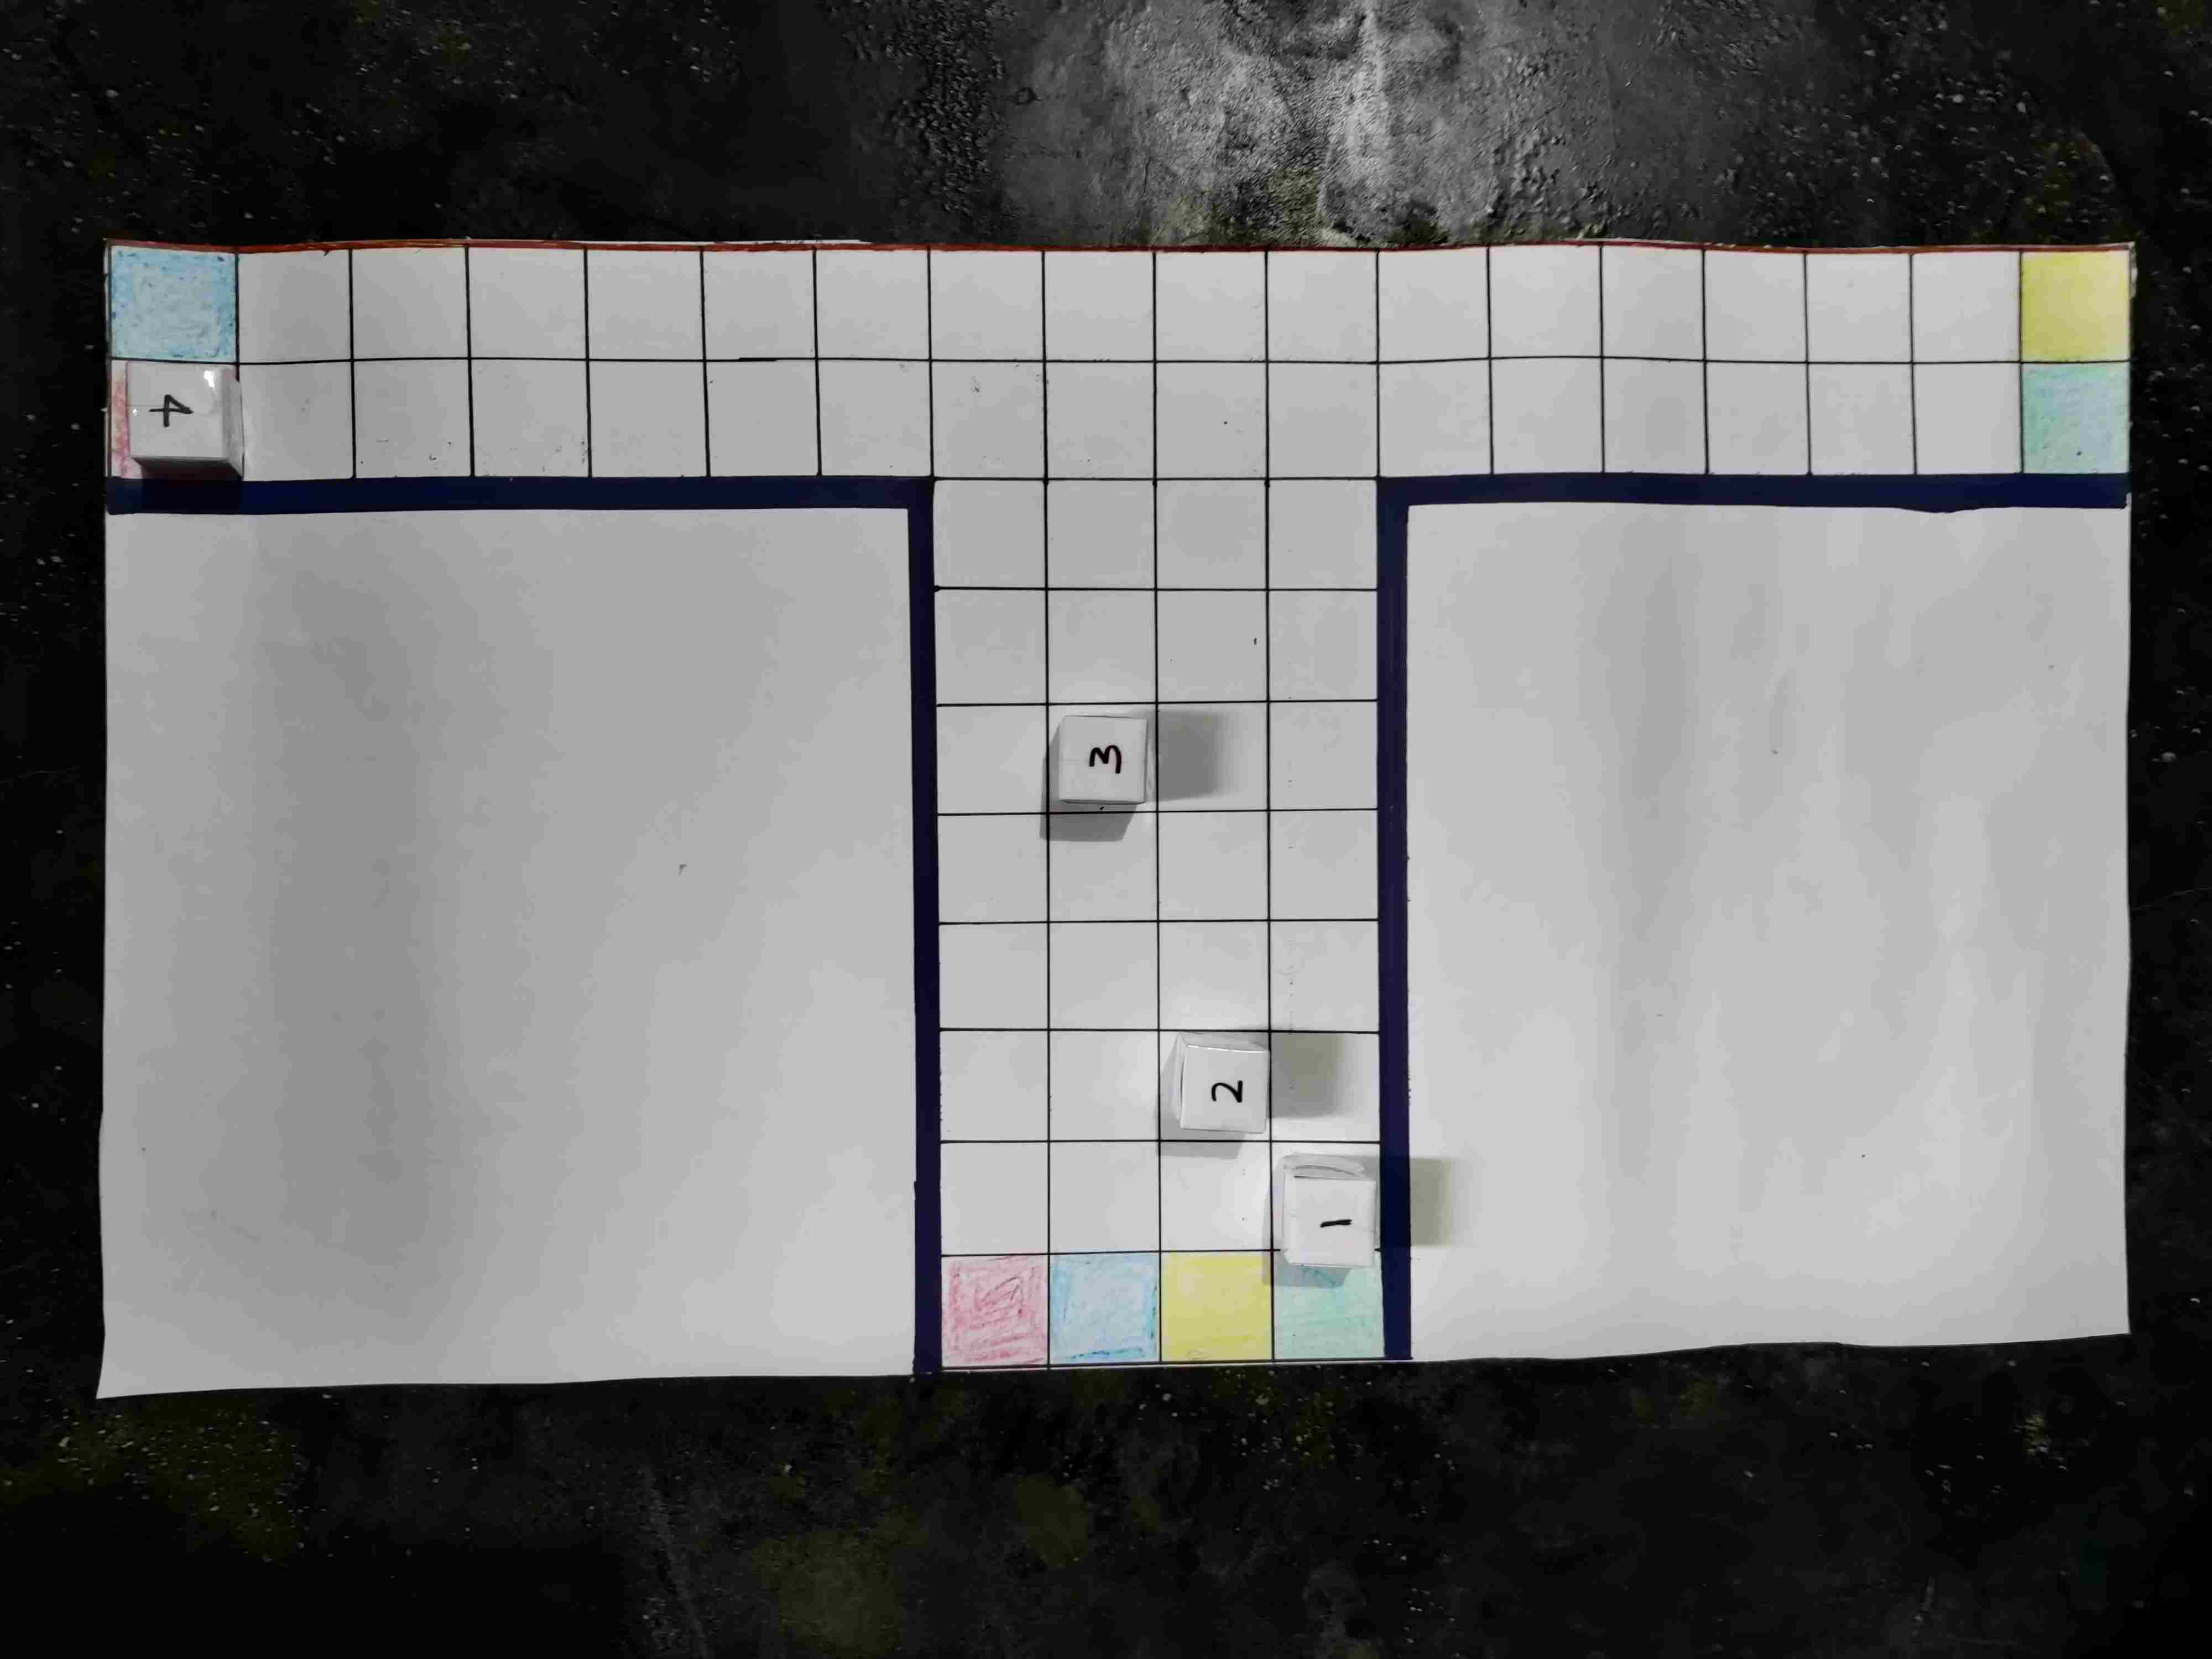arena: (145, 340, 2116, 1401)
bot: (1143, 1323, 1228, 1415), (934, 444, 1012, 537), (371, 1342, 458, 1422), (1240, 884, 1324, 962)
